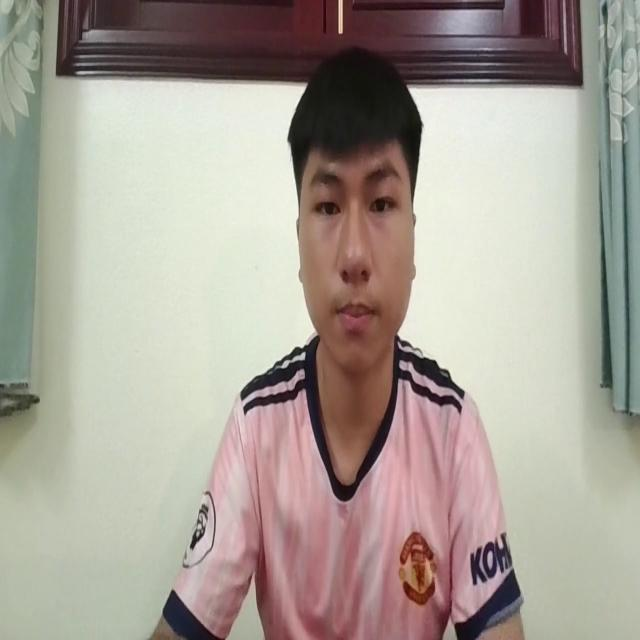student: (151, 55, 525, 640)
